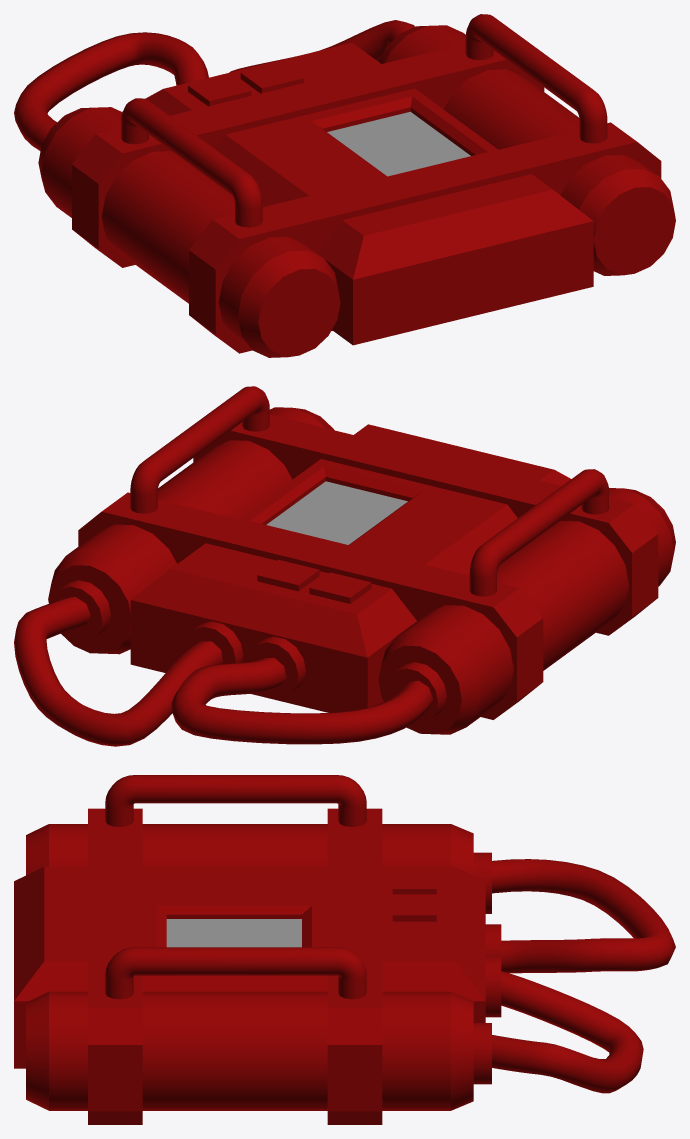
File: M_weapon_Explosive.FBX
3 renders of one model, top to bottom at view 1: azimuth 30°, elevation 25°; view 2: azimuth 150°, elevation 25°; view 3: azimuth 270°, elevation 25°, orthographic. The views are drawn at different scales.
Parts seen in each view (by area): view 1: M_weapo_explosive, M_weapo_explosive_handles; view 2: M_weapo_explosive, M_weapo_explosive_handles; view 3: M_weapo_explosive, M_weapo_explosive_handles.
Boxes of the visible parts, x1=… form: M_weapo_explosive: x1=14, y1=20, x2=675, y2=357; M_weapo_explosive_handles: x1=121, y1=14, x2=607, y2=227; M_weapo_explosive: x1=14, y1=407, x2=675, y2=746; M_weapo_explosive_handles: x1=130, y1=386, x2=608, y2=596; M_weapo_explosive: x1=14, y1=808, x2=675, y2=1124; M_weapo_explosive_handles: x1=105, y1=775, x2=366, y2=999.
Bounding box in the file's own units: 39.15 × 49.21 × 13.62.
